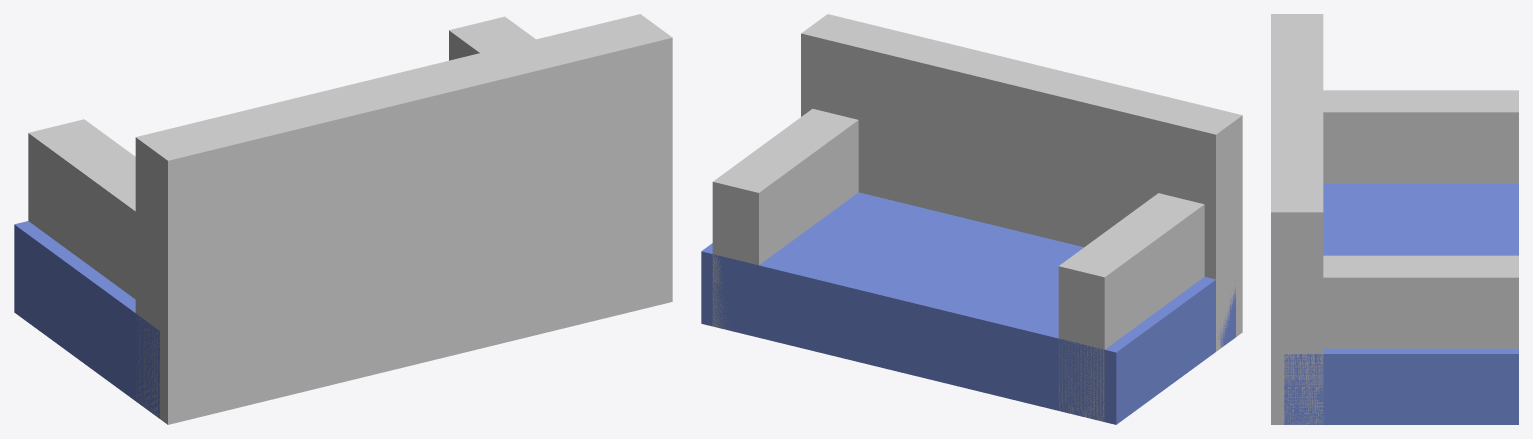
File: bellagio-sofa.glb
The picture shows the model from 3 angles, left to right: view 1: azimuth 30°, elevation 25°; view 2: azimuth 150°, elevation 25°; view 3: azimuth 270°, elevation 25°; orthographic projection. The views are drawn at different scales.
Visible parts, largest first — view 1: Bellagio_Back, Bellagio_Base, Bellagio_ArmLeft, Bellagio_ArmRight; view 2: Bellagio_Back, Bellagio_Base, Bellagio_ArmLeft, Bellagio_ArmRight; view 3: Bellagio_Base, Bellagio_Back, Bellagio_ArmLeft, Bellagio_ArmRight.
Boxes of the visible parts, x1,y1,x2,y2 form: Bellagio_Back: [135, 14, 672, 424]; Bellagio_Base: [14, 221, 159, 418]; Bellagio_ArmLeft: [28, 119, 135, 299]; Bellagio_ArmRight: [449, 16, 535, 60]; Bellagio_Back: [801, 14, 1242, 351]; Bellagio_Base: [701, 192, 1235, 424]; Bellagio_ArmLeft: [1058, 193, 1204, 421]; Bellagio_ArmRight: [712, 108, 858, 329]; Bellagio_Base: [1284, 183, 1518, 424]; Bellagio_Back: [1271, 14, 1323, 424]; Bellagio_ArmLeft: [1323, 90, 1518, 183]; Bellagio_ArmRight: [1323, 255, 1518, 348].
Bounding box in the file's own units: 3.6 × 1.8 × 1.9.
